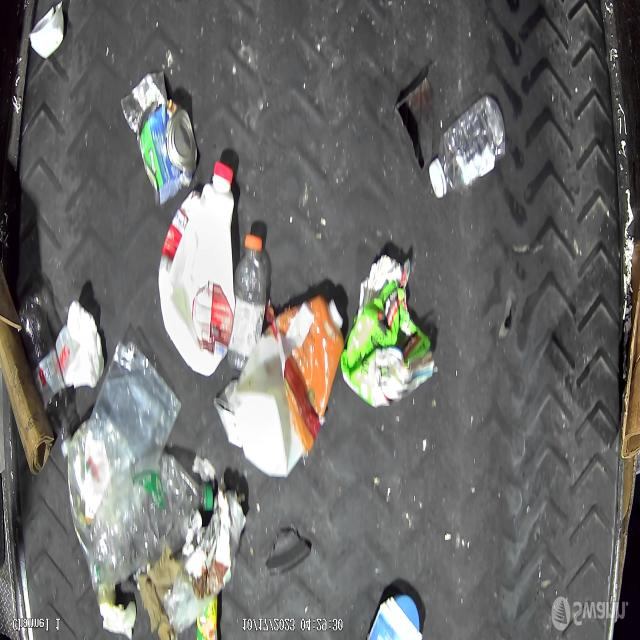can: (136, 91, 197, 205)
milk_jug: (159, 161, 238, 379)
plastic_bottle: (428, 90, 508, 199), (18, 295, 70, 458), (226, 232, 269, 372)
